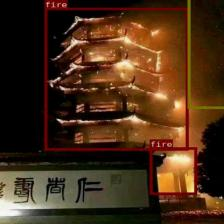fire: (44, 7, 188, 150), (149, 147, 197, 194)
smoke: (187, 0, 224, 108)
